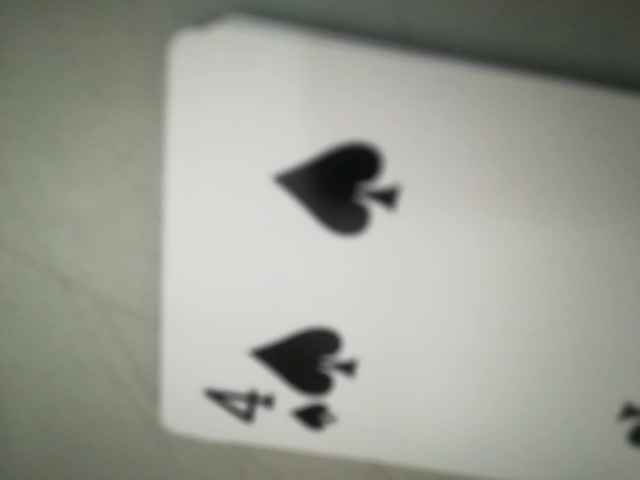ht 4: (186, 381, 351, 445)
